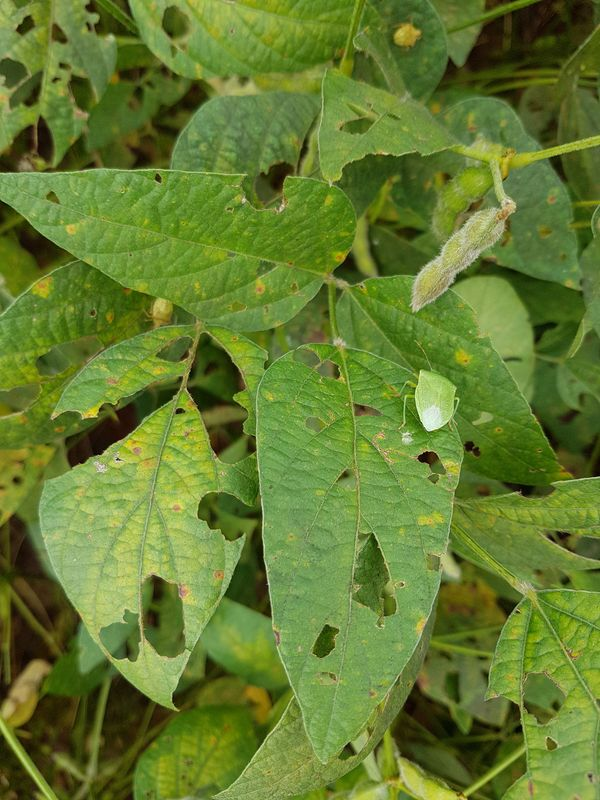Euschistus_heros_ninfa: (379, 12, 436, 59), (136, 284, 187, 333)
Nezara_viridula_adulto: (391, 359, 474, 445)
